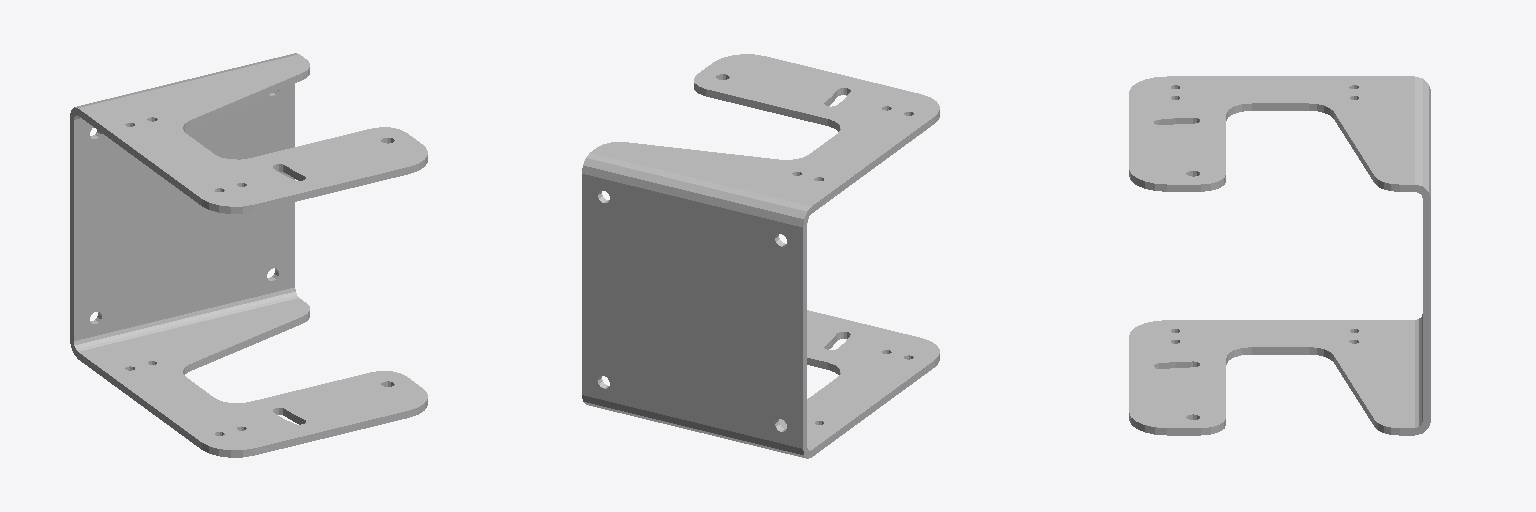
Rendered from lms1xx_mount.obj.
3 renders of one model, left to right at view 1: azimuth 30°, elevation 25°; view 2: azimuth 150°, elevation 25°; view 3: azimuth 270°, elevation 25°, orthographic.
Parts seen in each view (by area): view 1: obj1; view 2: obj1; view 3: obj1.
Part boxes in pixels (bbox=[...]): obj1: bbox=[70, 53, 427, 457]; obj1: bbox=[582, 54, 939, 458]; obj1: bbox=[1129, 76, 1430, 435].
Bounding box in the file's own units: 0.1 × 0.1084 × 0.1182.